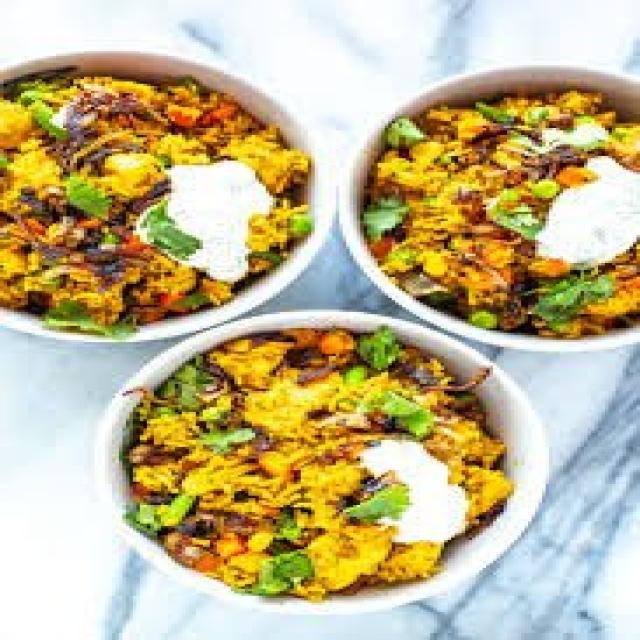chicken biryani: (2, 83, 296, 344)
